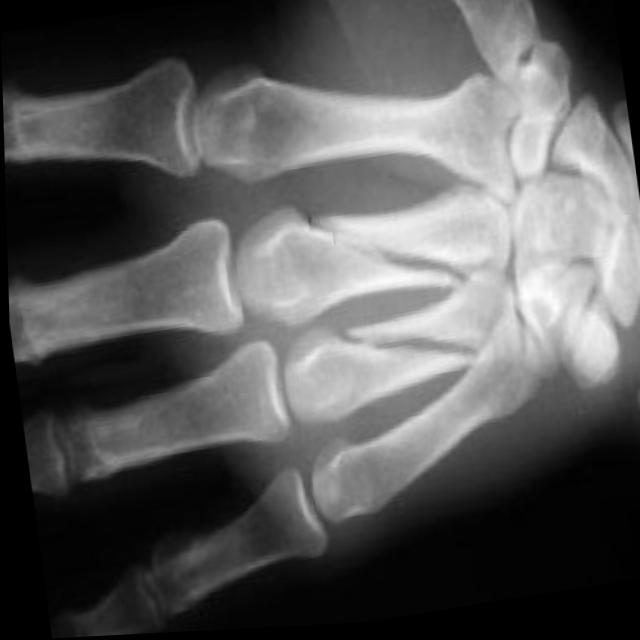fracture: (286, 182, 472, 321), (304, 307, 479, 404)
